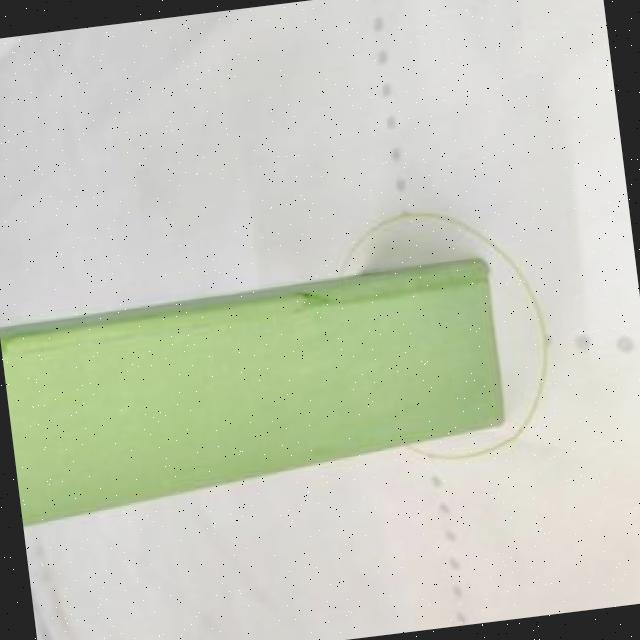greenbox: (0, 262, 511, 527)
